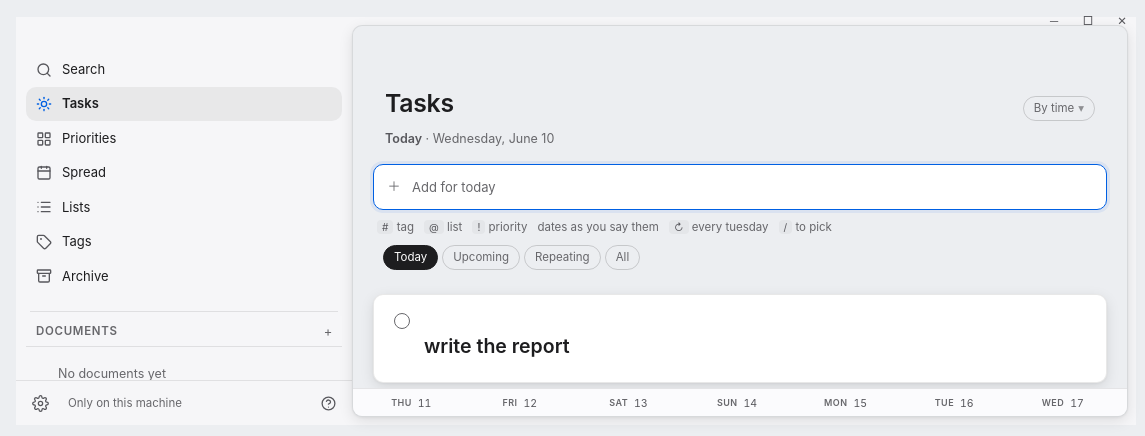
Test: the trace layer acts on one task at a time › offers no bulk action in any layer
The width and height of the screenshot is (1145, 436).
Expected: the heading "write the report" is shown, 424,334 -> 570,358
Click the button "Archive" at (85, 276), box 26,260 -> 342,293
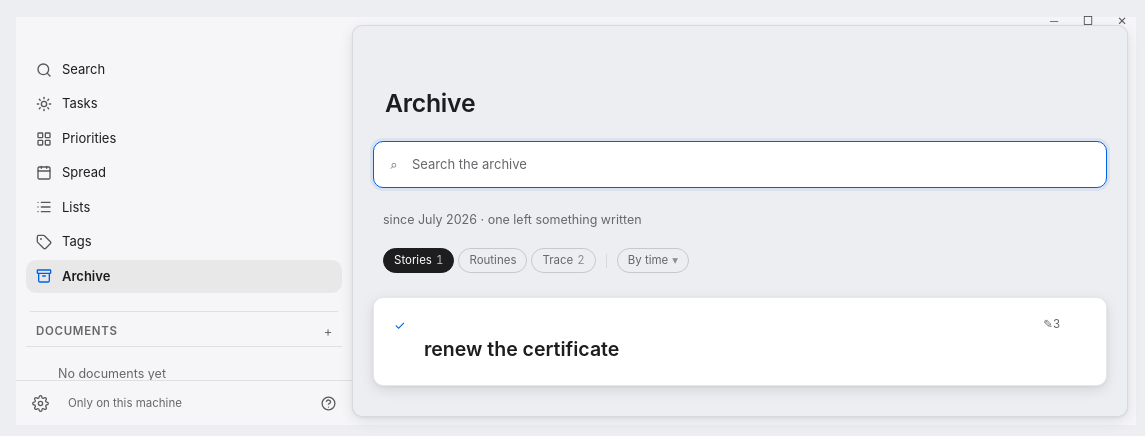
Now the heading "renew the certificate" is shown, box 424,337 -> 619,361
Click the button "Trace2" at (564, 261), box 532,248 -> 596,273
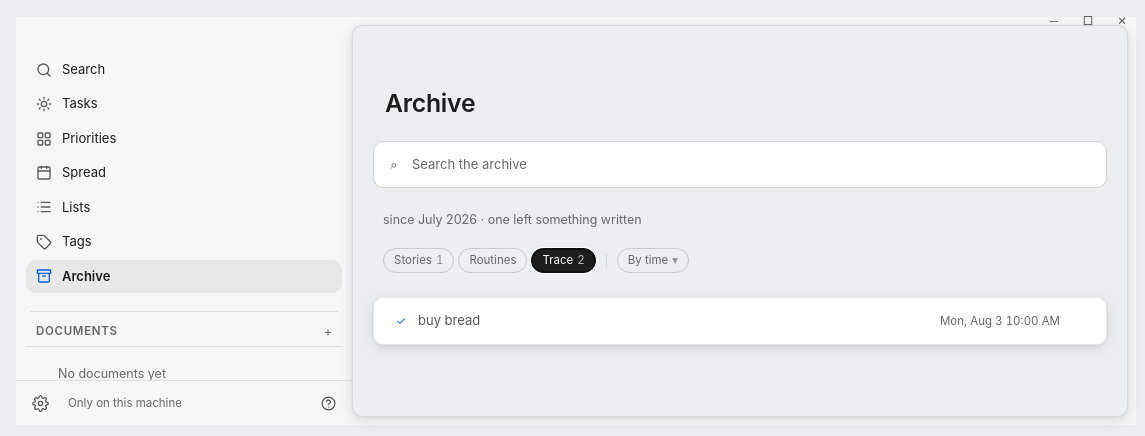
Now the text "buy bread" is shown, box 418,312 -> 480,328
